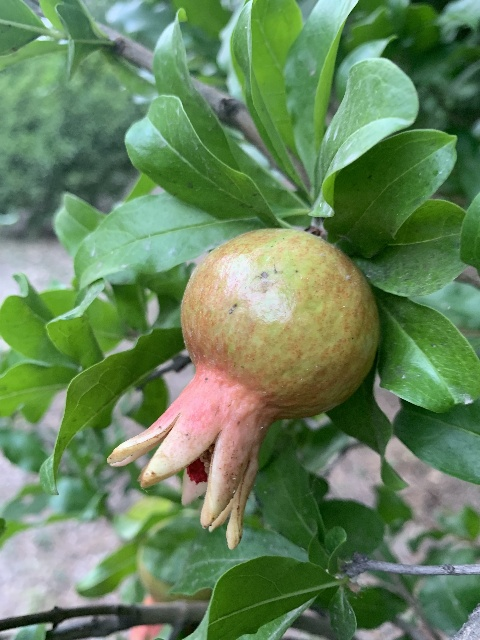early-fruit: (106, 226, 376, 554)
